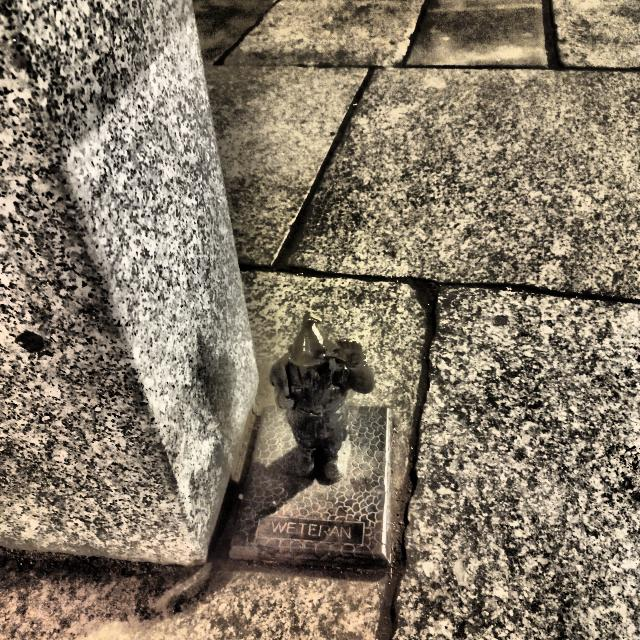Weteran: (270, 312, 374, 482)
